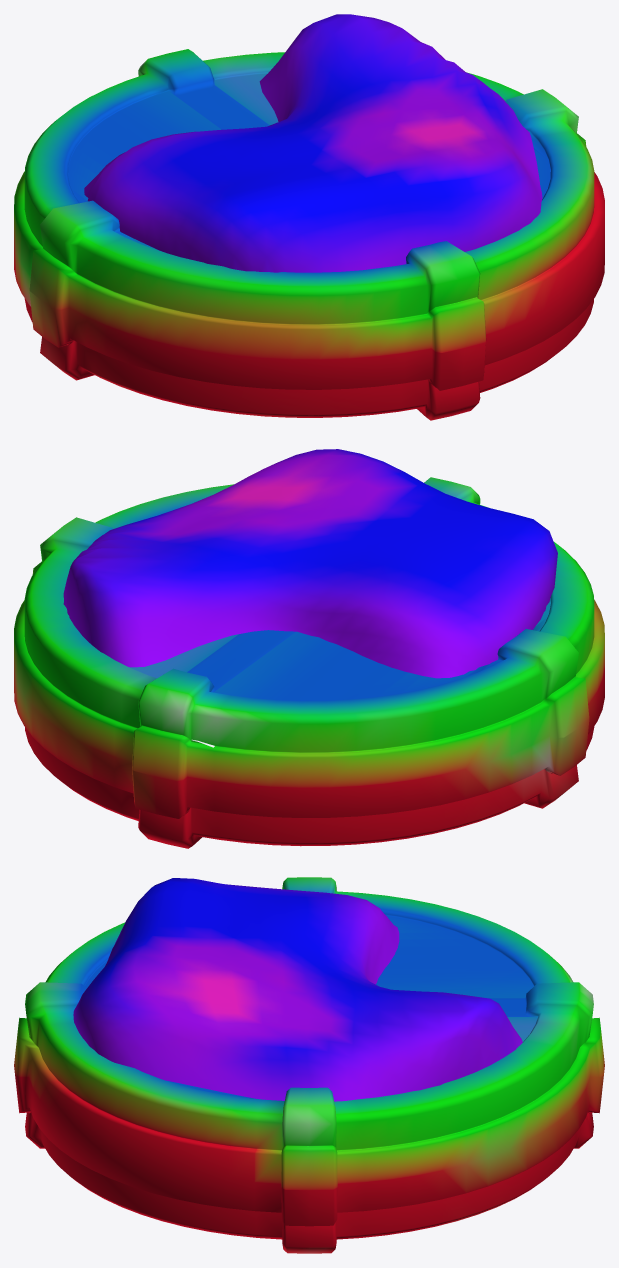
The model's file is fbldiorama.fbx.
3 renders of one model, top to bottom at view 1: azimuth 30°, elevation 25°; view 2: azimuth 150°, elevation 25°; view 3: azimuth 270°, elevation 25°, orthographic. The views are drawn at different scales.
Parts seen in each view (by area): view 1: golemplains_props_0, Plane; view 2: golemplains_props_0, Plane; view 3: golemplains_props_0, Plane.
Boxes of the visible parts, x1=… form: golemplains_props_0: x1=14, y1=49, x2=604, y2=420; Plane: x1=84, y1=14, x2=542, y2=272; golemplains_props_0: x1=14, y1=477, x2=604, y2=848; Plane: x1=63, y1=449, x2=557, y2=747; golemplains_props_0: x1=14, y1=877, x2=604, y2=1253; Plane: x1=73, y1=878, x2=522, y2=1101.
Size of the model in its own units: 2.17 by 0.7973 by 2.17.
